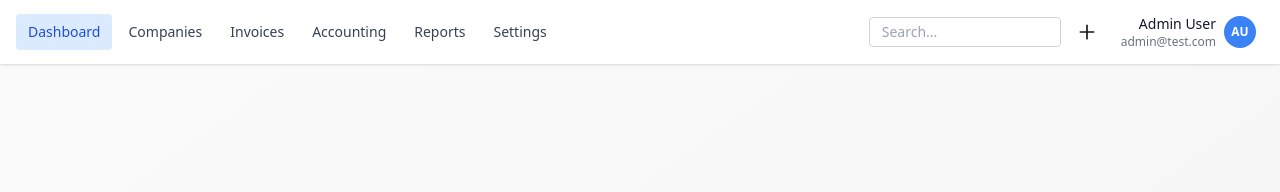
Navigation Component › Dropdowns › should show reports submenu
The width and height of the screenshot is (1280, 192).
Click the button "Reports". click: (440, 32)
box: [402,14,478,50]
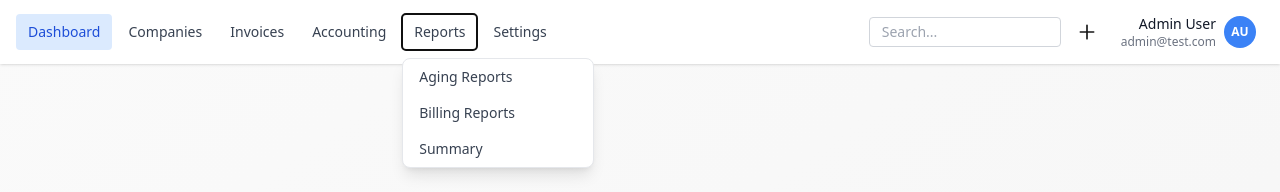
Check: the link "Aging Reports" is shown, box [419,67,513,86]
Check: the link "Billing Reports" is shown, box [419,103,515,122]
Check: the link "Summary" is shown, box [419,139,483,158]
